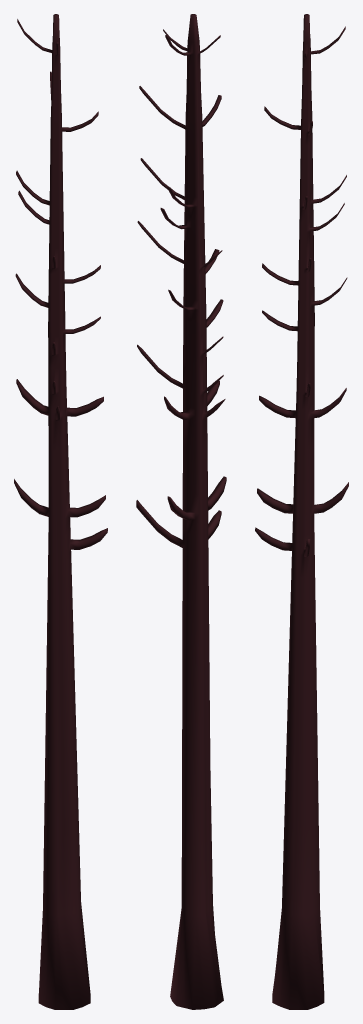
File: tree_002.fbx
3 renders of one model, left to right at view 1: azimuth 90°, elevation 25°; view 2: azimuth 150°, elevation 25°; view 3: azimuth 270°, elevation 25°, orthographic.
Visible parts, largest first — view 1: treeTrunk_002; view 2: treeTrunk_002; view 3: treeTrunk_002.
Boxes of the visible parts, left/top/right/bottom form: treeTrunk_002: left=14, top=14, right=107, bottom=1009; treeTrunk_002: left=136, top=14, right=226, bottom=1009; treeTrunk_002: left=255, top=14, right=348, bottom=1009.
Size of the model in its own units: 64.1 by 695 by 60.1.
